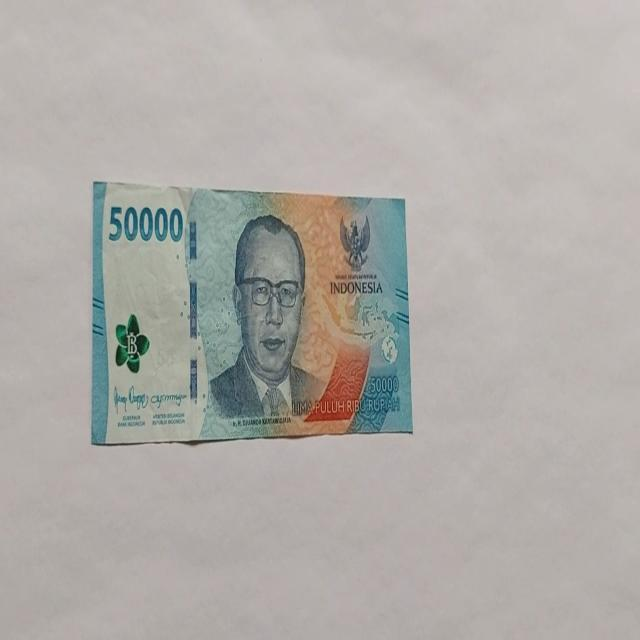lima puluh ribu rupiah: (90, 178, 413, 446), (201, 212, 327, 432)
